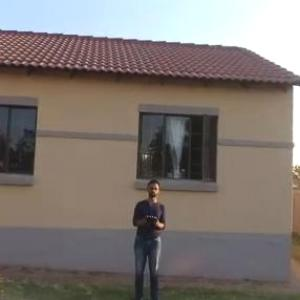follow: (124, 176, 172, 299)
